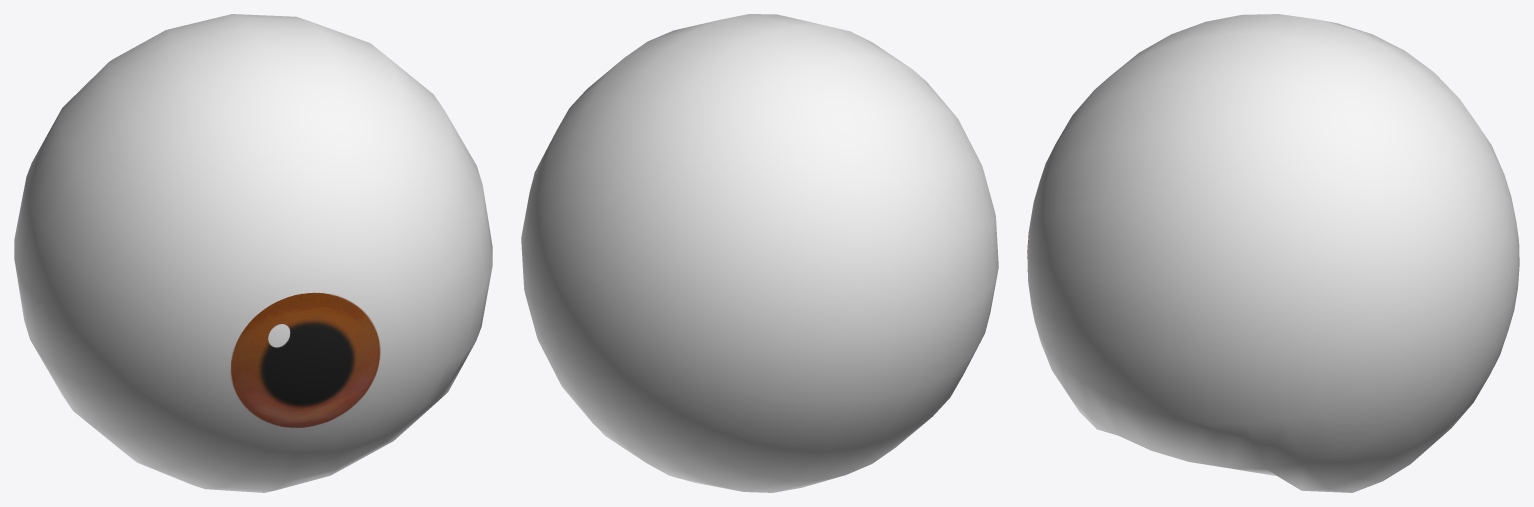
The model's file is JOJO_eye_R.FBX.
3 renders of one model, left to right at view 1: azimuth 30°, elevation 25°; view 2: azimuth 150°, elevation 25°; view 3: azimuth 270°, elevation 25°, orthographic. The views are drawn at different scales.
Visible parts, largest first — view 1: JOJO_eye_R; view 2: JOJO_eye_R; view 3: JOJO_eye_R.
Part boxes in pixels (x1,y1,x2,y2): JOJO_eye_R: (14,14,492,492); JOJO_eye_R: (521,14,998,492); JOJO_eye_R: (1027,14,1519,492).
Size of the model in its own units: 17.49 by 17.44 by 17.46.
